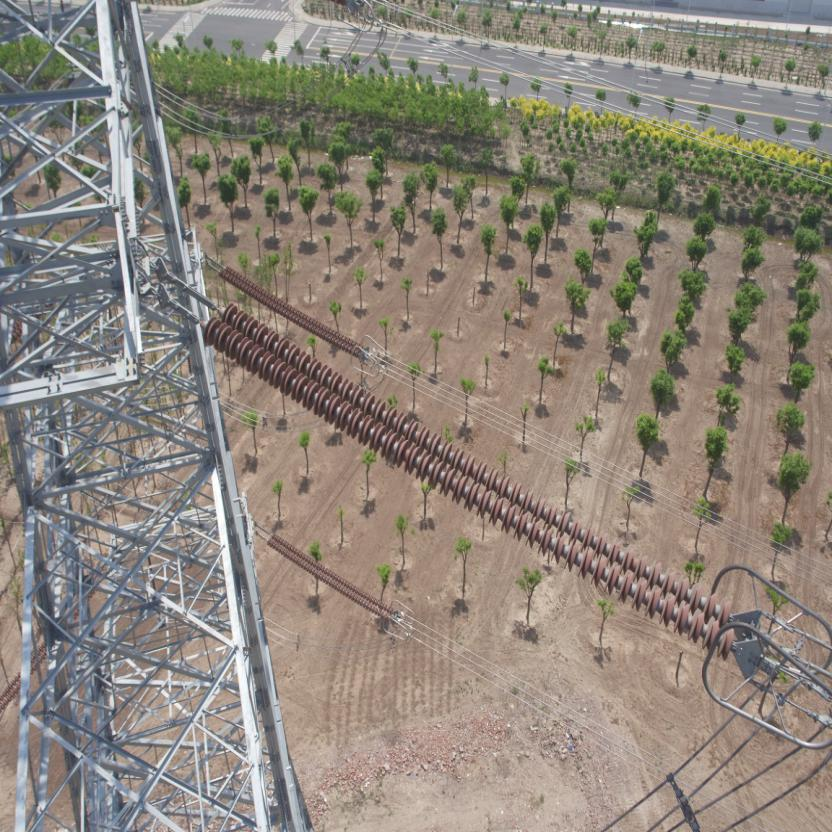insulator: (169, 291, 752, 661), (204, 260, 369, 360), (261, 528, 398, 623)
